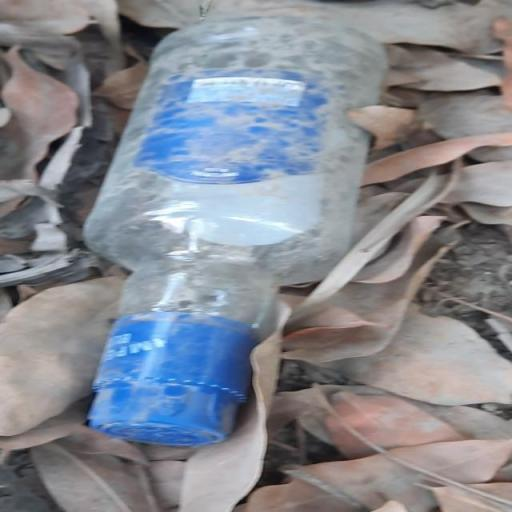glass: (66, 12, 410, 446)
